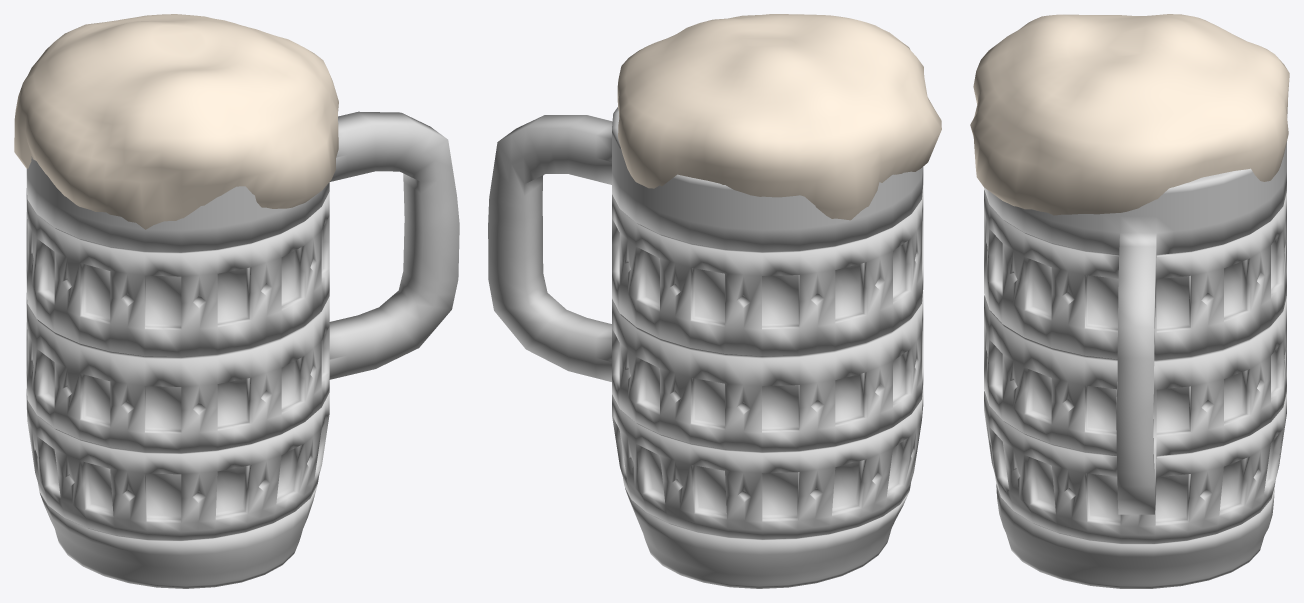
File: beer.glb
3 renders of one model, left to right at view 1: azimuth 30°, elevation 25°; view 2: azimuth 150°, elevation 25°; view 3: azimuth 270°, elevation 25°, orthographic.
Parts seen in each view (by area): view 1: Circle.003; view 2: Circle.003; view 3: Circle.003.
Part boxes in pixels (x1=…): Circle.003: x1=14, y1=14, x2=459, y2=588; Circle.003: x1=488, y1=14, x2=941, y2=588; Circle.003: x1=970, y1=14, x2=1289, y2=588.
Bounding box in the file's own units: 4.25 × 4.89 × 2.82.
